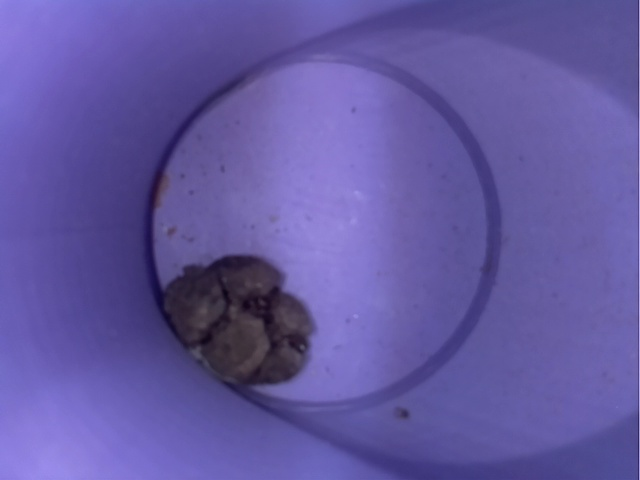ecorce: (139, 245, 326, 397)
